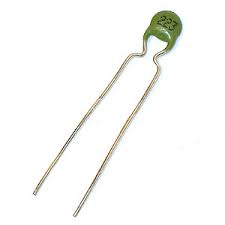ceramic capacitor: (100, 1, 213, 95)
